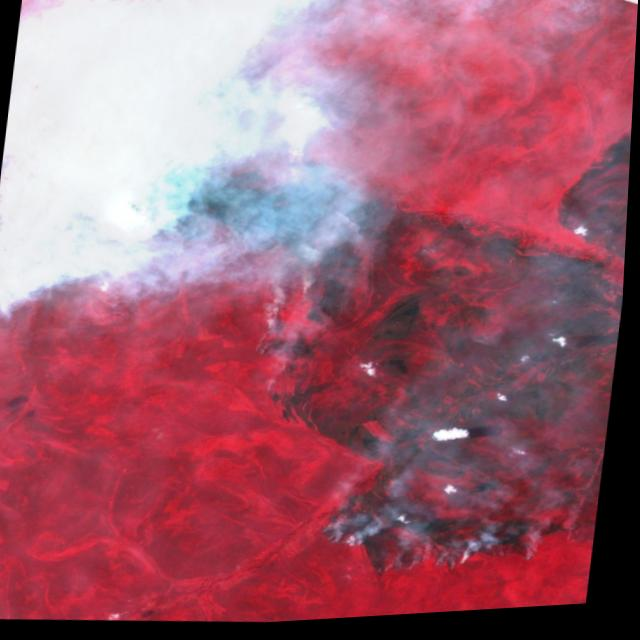fire: (242, 248, 339, 401), (300, 496, 403, 572), (432, 526, 547, 590)
